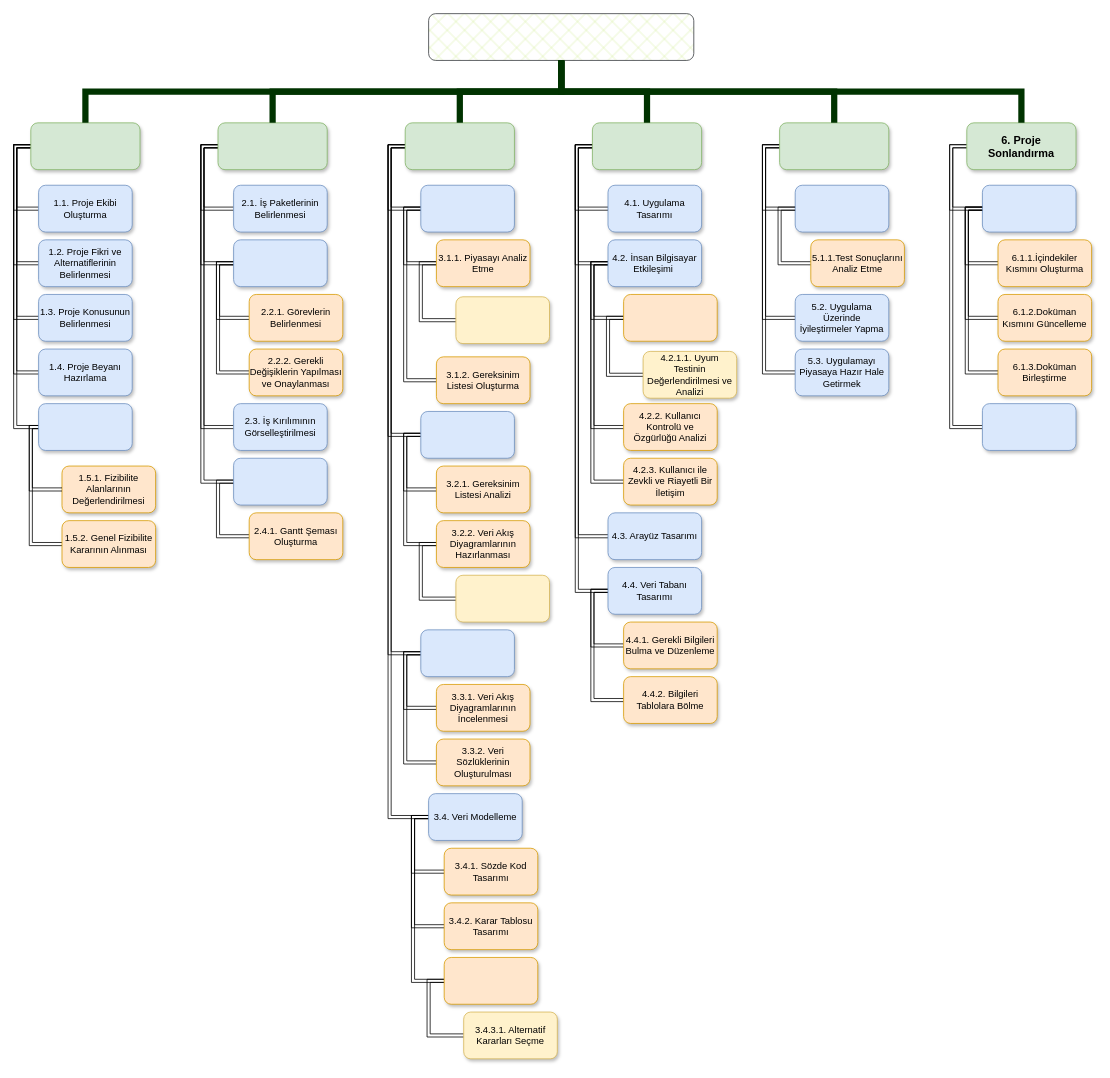
The diagram is 1110 pixels wide and 1078 high, and some of its shapes have lost their labels. Here are the shapes that lost their labels. From the top down, the centre of each, then its label:
At (x=561, y=36): "GUIDE-ME".
At (x=86, y=147): "1. Proje Başlatma Aşaması".
At (x=273, y=147): "2. Planlama".
At (x=460, y=147): "3. Analiz".
At (x=647, y=147): "4. Tasarım Aşaması".
At (x=834, y=147): "5. Prototip Uygulama".
At (x=468, y=209): "3.1. Gereksinim Analizi".
At (x=842, y=209): "5.1. Prototip Uygulamayı Test Etme".
At (x=1030, y=209): "6.1. Proje Dosyası Hazırlama".
At (x=281, y=264): "2.2. Görevlerin Belirlenmesi ve Dağılımlarının Yapılması".
At (x=503, y=321): "3.1.1.1. Hedef Kitlenin Belirlenmesi".
At (x=671, y=319): "4.2.1. Sistem ve Gerçek Dünyanın Uyumu Testi".
At (x=86, y=428): "1.5. Ön Fizibilite Çalışması".
At (x=468, y=436): "3.2. Süreç Modelleme".
At (x=1030, y=428): "6.2.Uygulamayı Kullanıcıya Sunma".
At (x=281, y=482): "2.4. İş Çizelgelerinin Belirlenmesi".
At (x=503, y=599): "3.2.2.1. Bağlam Diyagramı".
At (x=468, y=654): "3.3. Veri Modelleme".
At (x=491, y=982): "3.4.3. Karar Ağacı Tasarımı".
